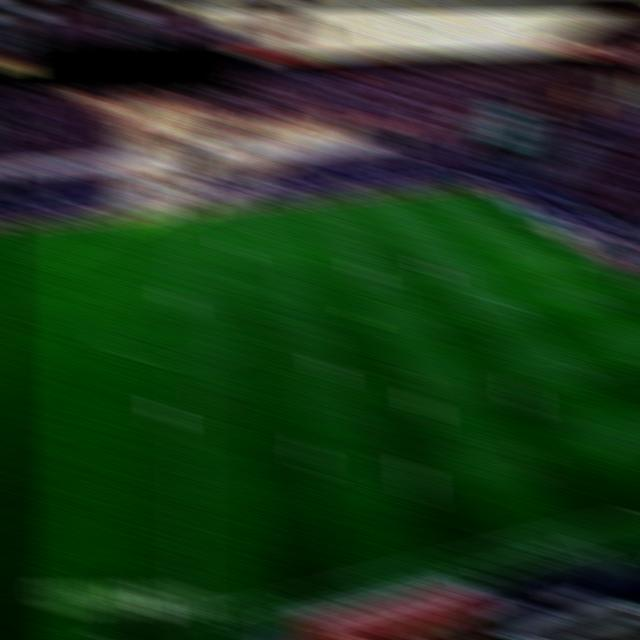bigarea_bottom_inner: (569, 366, 598, 384)
bigarea_top_inner: (407, 213, 437, 229)
bigarea_top_outter: (498, 204, 528, 222)
bottom_arc_area_intersection: (496, 298, 526, 315)
corner: (460, 181, 490, 197)
halfcircle_bottom: (173, 352, 203, 368)
halfcircle_top: (172, 269, 202, 285)
midline_bottom_intersection: (176, 608, 208, 629)
midline_top_intersection: (173, 205, 202, 221)
smallarea_bottom_inner: (589, 294, 619, 311)
smallarea_bottom_outter: (627, 288, 640, 304)
smallarea_top_inner: (507, 233, 536, 249)
smallarea_top_outter: (537, 230, 568, 246)
top_arc_area_intersection: (442, 245, 471, 262)
